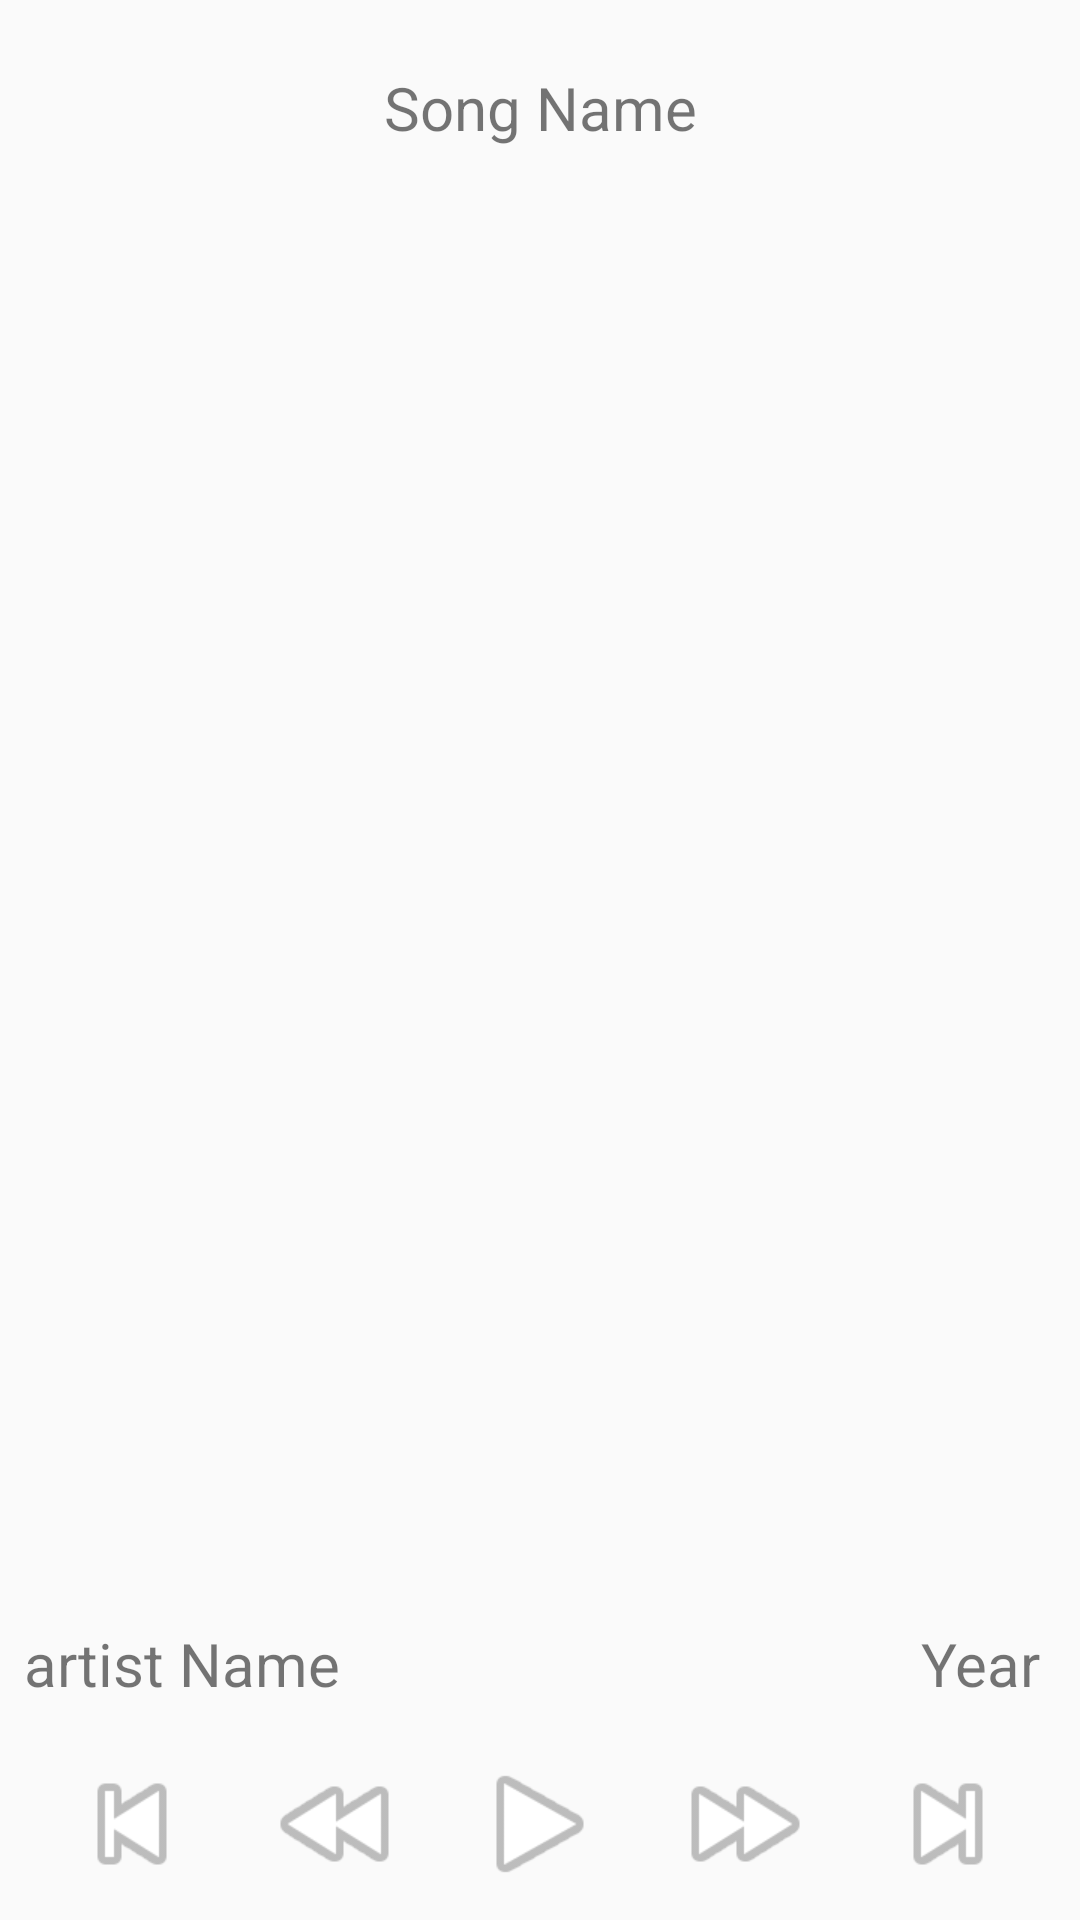

Locate icon controls on the screen. Image size 1080x1920, boxes as (x1, y1, x2, y2).
next: (913, 1783, 983, 1865)
play: (496, 1776, 584, 1872)
previous: (97, 1783, 167, 1865)
rew: (280, 1786, 389, 1862)
